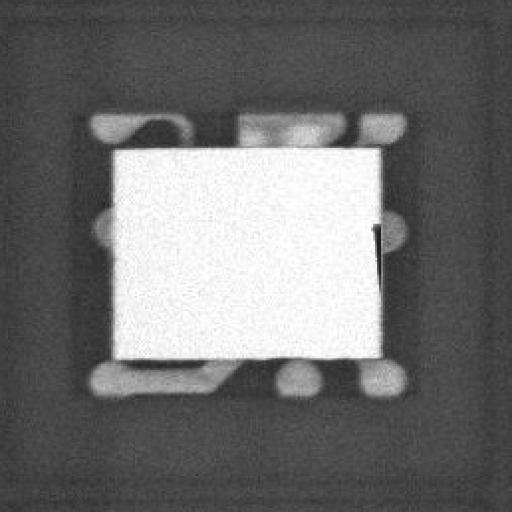DIE_BROKEN: (367, 216, 383, 290)
